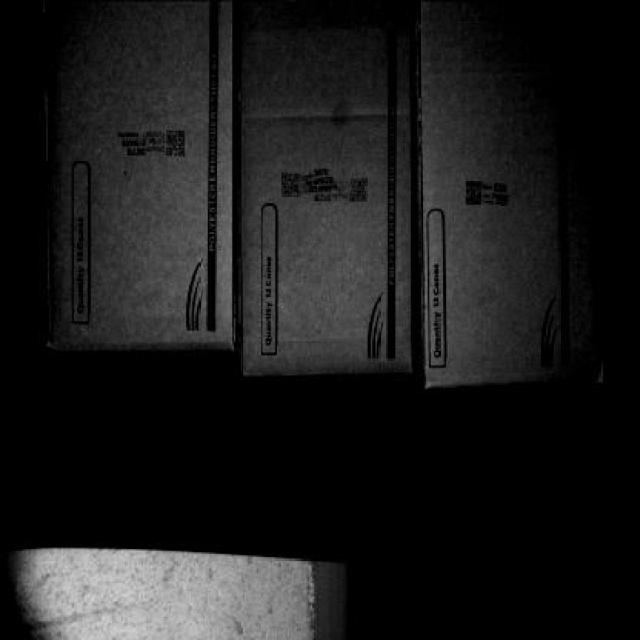cardboxes: (41, 0, 236, 348), (241, 3, 422, 377), (427, 16, 608, 376)
